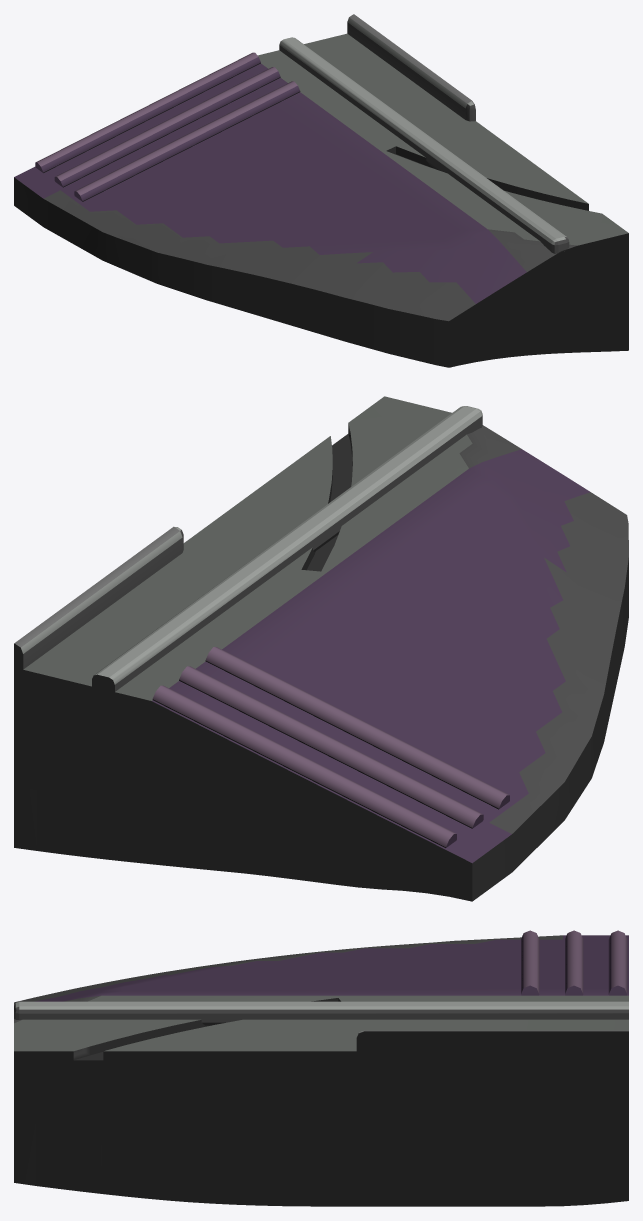
The model's file is camanis_boss_115.glb.
3 renders of one model, top to bottom at view 1: azimuth 30°, elevation 25°; view 2: azimuth 150°, elevation 25°; view 3: azimuth 270°, elevation 25°, orthographic. The views are drawn at different scales.
Visible parts, largest first — view 1: camanis_boss_115; view 2: camanis_boss_115; view 3: camanis_boss_115.
Part boxes in pixels (box(x1,y1,x2,y2)): camanis_boss_115: box(14, 14, 628, 367); camanis_boss_115: box(14, 396, 628, 901); camanis_boss_115: box(14, 930, 628, 1206).
Size of the model in its own units: 20 by 8.8 by 28.
